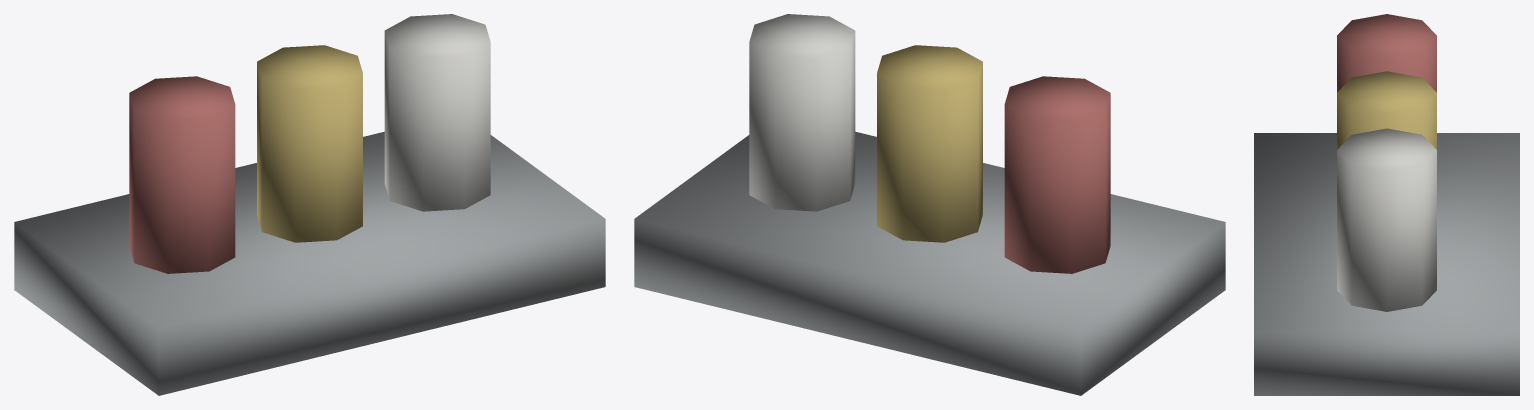
File: condiment_station__squat.glb
3 renders of one model, left to right at view 1: azimuth 30°, elevation 25°; view 2: azimuth 150°, elevation 25°; view 3: azimuth 270°, elevation 25°, orthographic. The views are drawn at different scales.
Parts seen in each view (by area): view 1: world; view 2: world; view 3: world.
Boxes of the visible parts, x1,y1,x2,y2 form: world: (14,14,605,395); world: (634,14,1225,395); world: (1254,14,1519,395).
Bounding box in the file's own units: 0.462 × 0.2184 × 0.2592.
